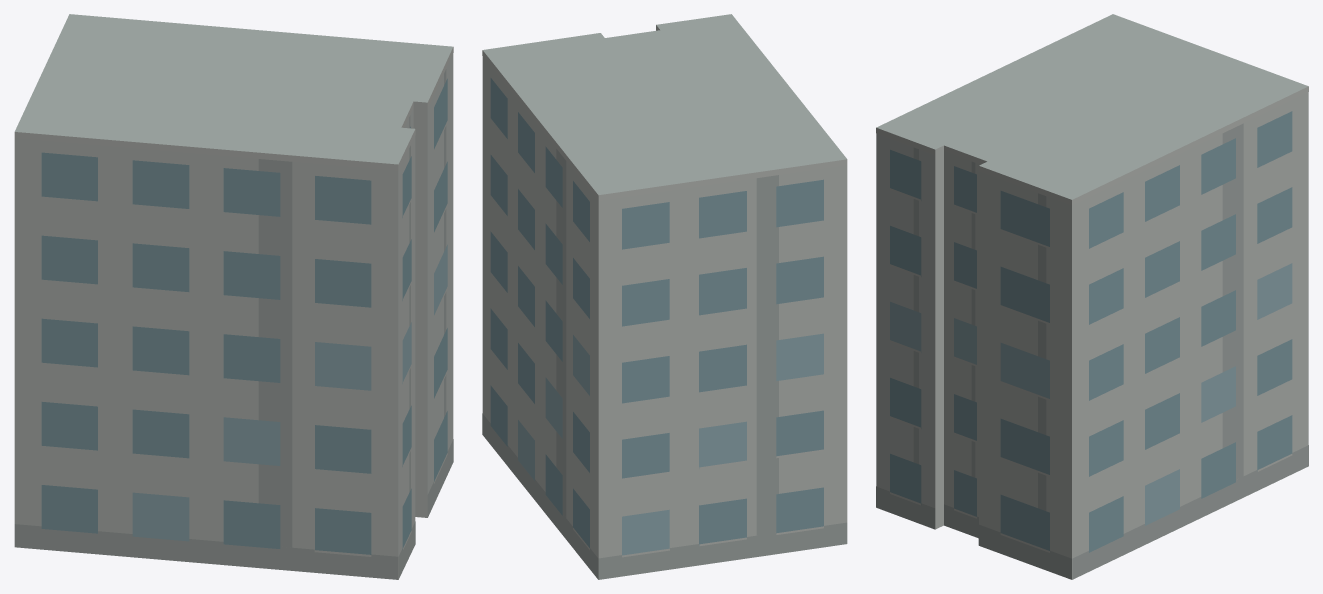
The model's file is survey-upis-32826060.glb.
3 renders of one model, left to right at view 1: azimuth 30°, elevation 25°; view 2: azimuth 150°, elevation 25°; view 3: azimuth 270°, elevation 25°, orthographic. The views are drawn at different scales.
Parts seen in each view (by area): view 1: survey-upis-32826060.tmp; view 2: survey-upis-32826060.tmp; view 3: survey-upis-32826060.tmp.
Boxes of the visible parts, x1,y1,x2,y2 form: survey-upis-32826060.tmp: (14,14,453,579); survey-upis-32826060.tmp: (482,14,847,579); survey-upis-32826060.tmp: (876,14,1308,579).
Size of the model in its own units: 16.79 by 16 by 16.52.
